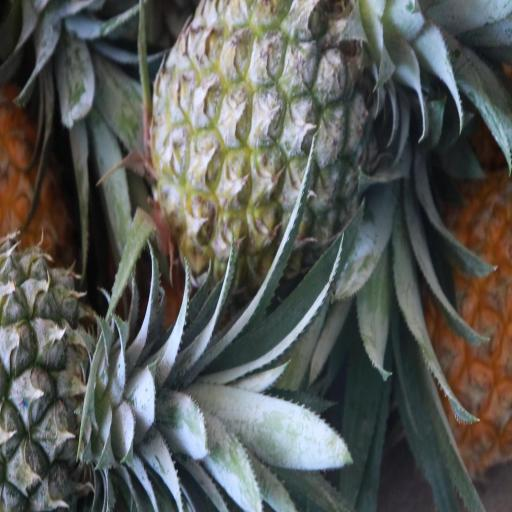------------------------------: (150, 0, 382, 289)
